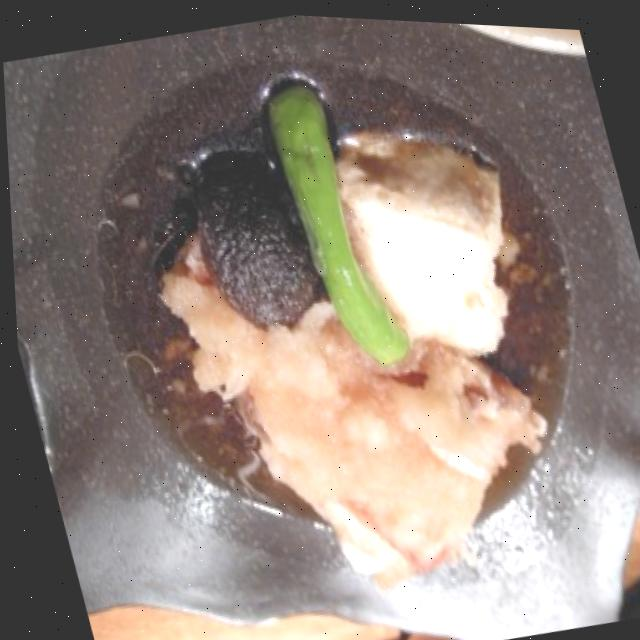熟制海鲜: (102, 151, 587, 635)
